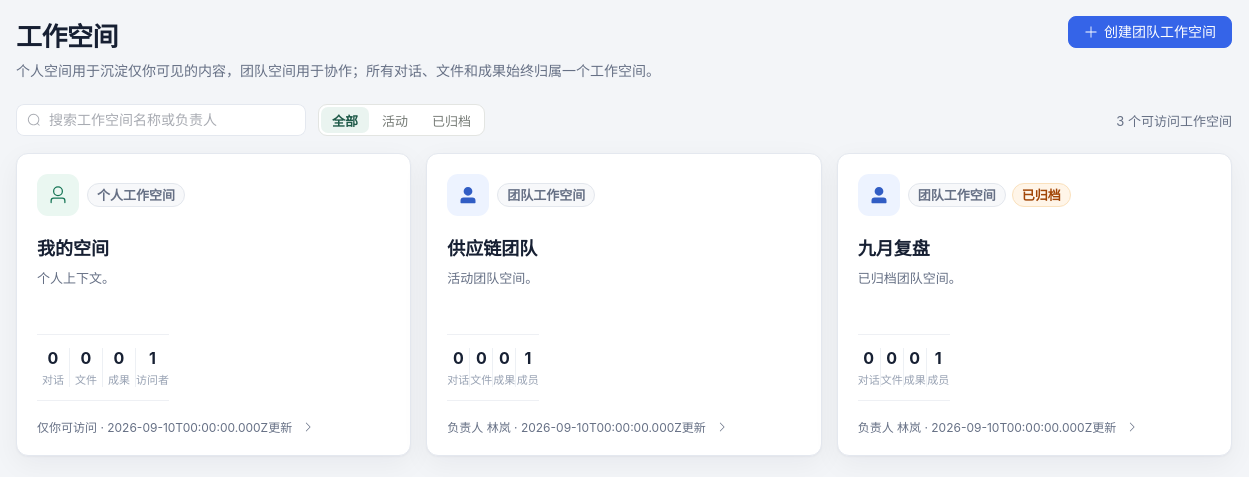
Scenario: WorkspacesView 归档筛选与归档卡片（design §2.1 / §6） › shows the dedicated archived empty state when no team space is archived
Click the tab with test id "workspace-filter-archived" at [452, 120], box x1=421 y1=107 x2=482 y2=133
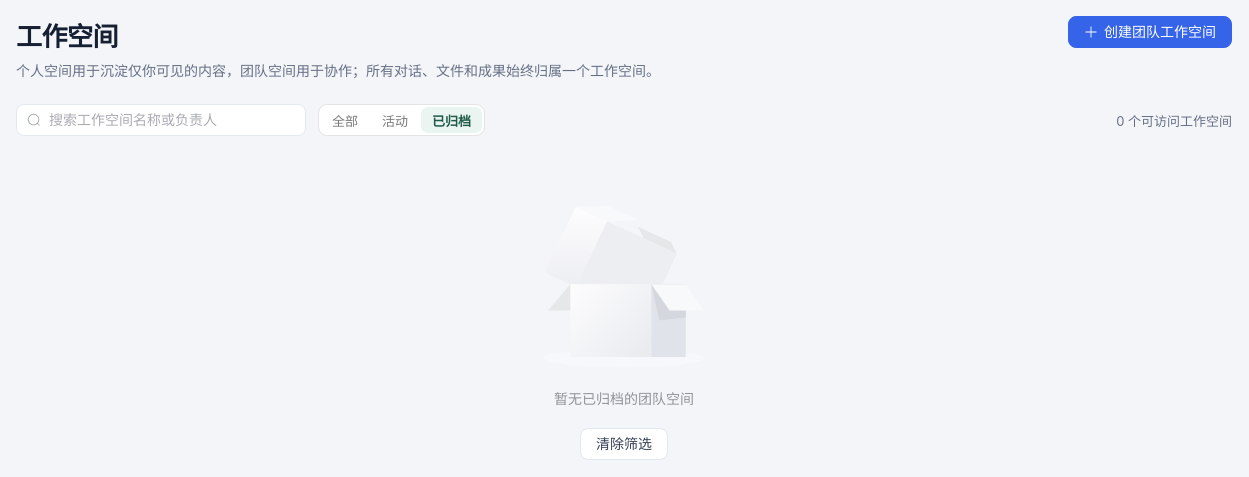
Check: the text "暂无已归档的团队空间" is shown, box x1=554 y1=388 x2=694 y2=408
